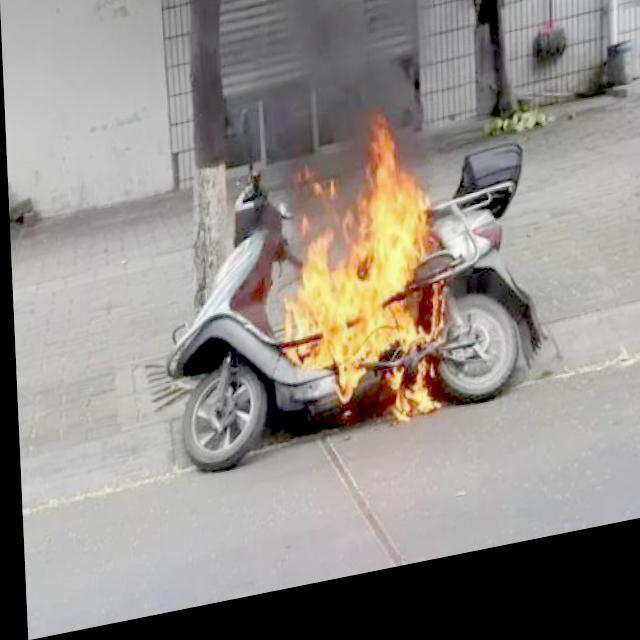Fire: (263, 112, 447, 454)
